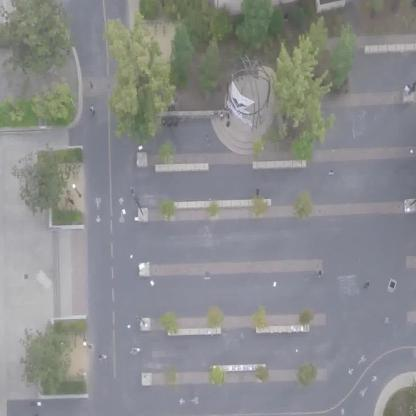Bicyclist: (312, 262, 333, 287), (82, 96, 97, 125), (125, 342, 143, 364), (358, 276, 375, 296), (97, 347, 112, 369)
Pedestrian: (218, 109, 238, 128), (250, 184, 266, 204), (400, 80, 414, 98), (201, 134, 214, 152), (327, 163, 338, 184)
